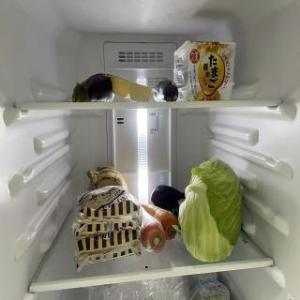cabbage: (179, 160, 246, 262)
carrot: (140, 205, 166, 253), (142, 204, 178, 238)
eggplant: (73, 73, 115, 103), (153, 186, 186, 210), (155, 80, 179, 102)
onion: (86, 164, 128, 195)
